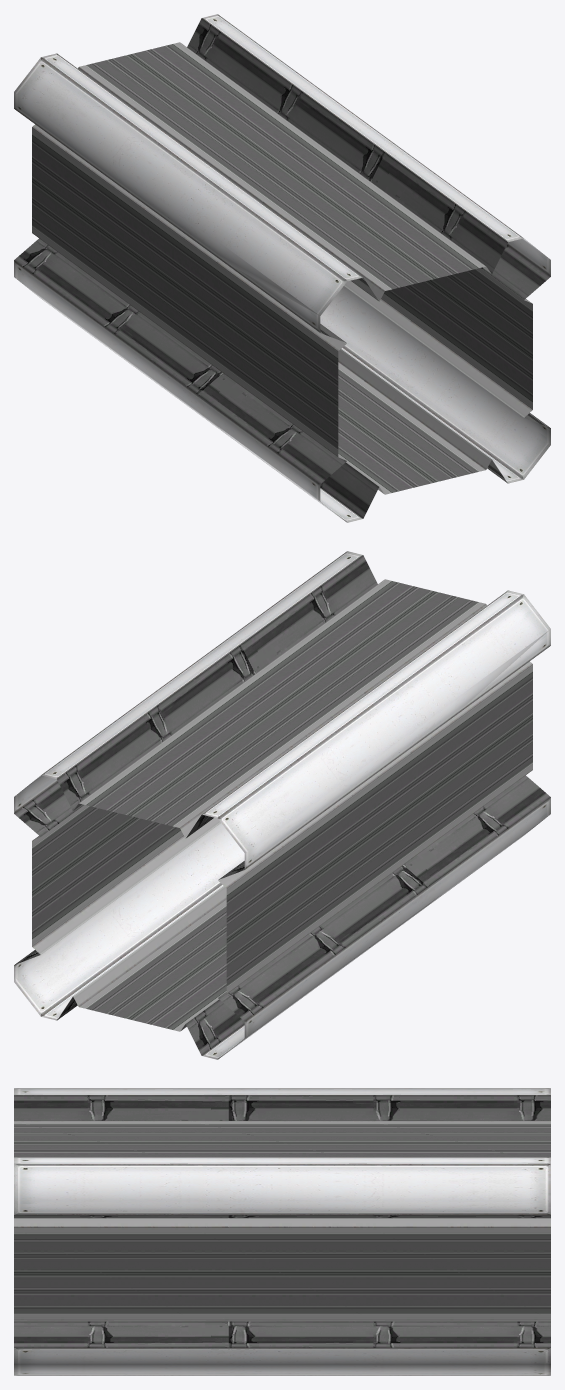
The model's file is CeilingBrace_1x3.FBX.
3 views of the same model, one above another, from view 1: azimuth 30°, elevation 25°; view 2: azimuth 150°, elevation 25°; view 3: azimuth 270°, elevation 25° (orthographic). The views are drawn at different scales.
Visible parts, largest first — view 1: CeilingBrace_1x3; view 2: CeilingBrace_1x3; view 3: CeilingBrace_1x3.
Boxes of the visible parts, x1,y1,x2,y2 form: CeilingBrace_1x3: (14,14,550,522); CeilingBrace_1x3: (14,551,550,1059); CeilingBrace_1x3: (14,1088,550,1375).
Bounding box in the file's own units: 1.3 × 1.3 × 3.
